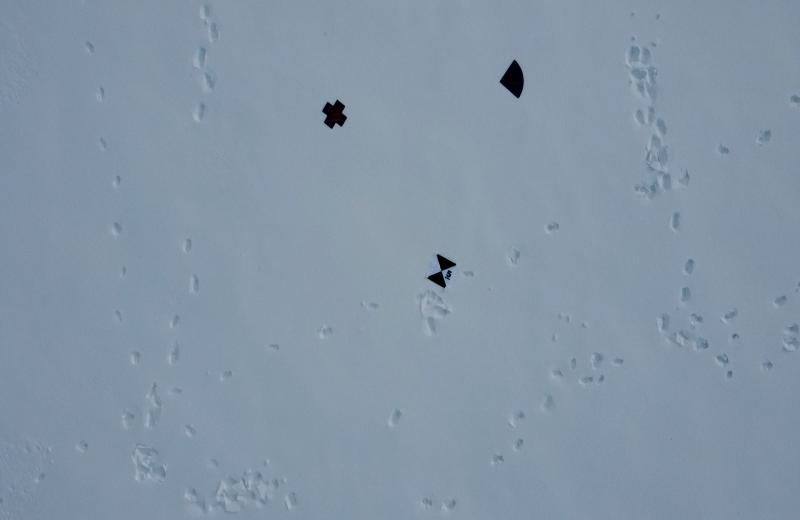Cross: (320, 99, 350, 131)
Quarter Circle: (496, 58, 525, 105)
